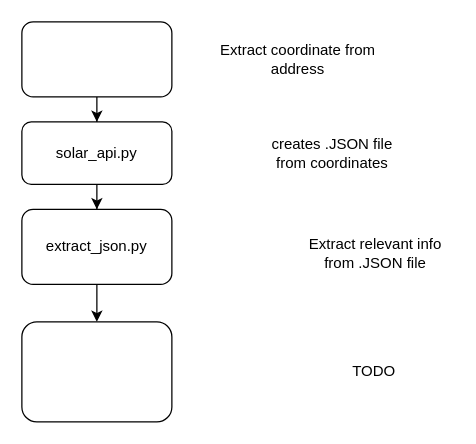
Some shapes in this 476 by 444 pixel diagram are drawn without their labels. Each missing label, with the centre of its shape:
financial_ engineering.py: point (96, 371)
mapdata.py: point (96, 59)
